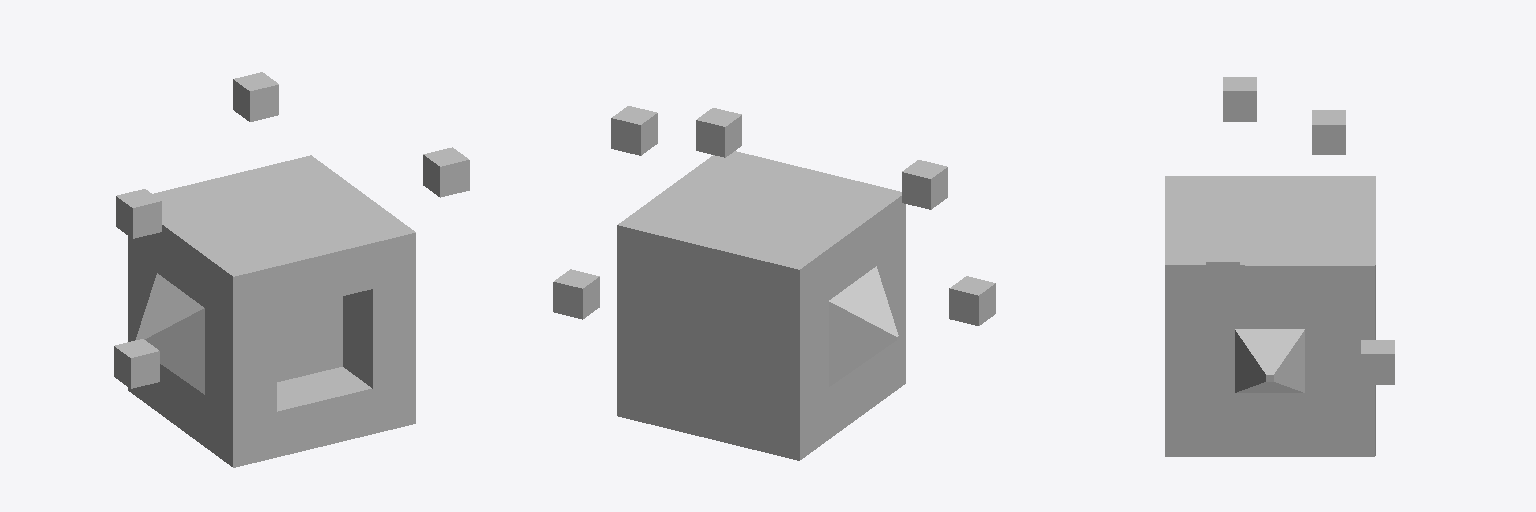
The model's file is enemy.obj.
3 views of the same model, side by side, from view 1: azimuth 30°, elevation 25°; view 2: azimuth 150°, elevation 25°; view 3: azimuth 270°, elevation 25° (orthographic).
Visible parts, largest first — view 1: Cube; view 2: Cube; view 3: Cube.
Boxes of the visible parts, <box> form: Cube: <box>114,72,469,467</box>; Cube: <box>553,106,995,460</box>; Cube: <box>1165,77,1394,456</box>.
Size of the model in its own units: 1.51 by 1.23 by 0.8524.